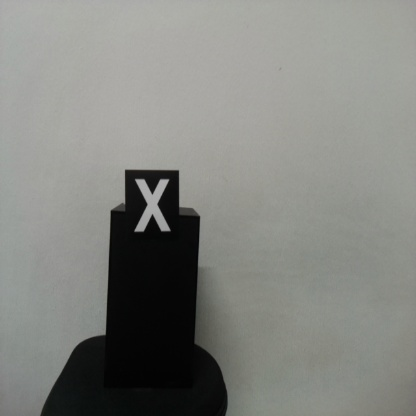id_13: (124, 170, 180, 246)
